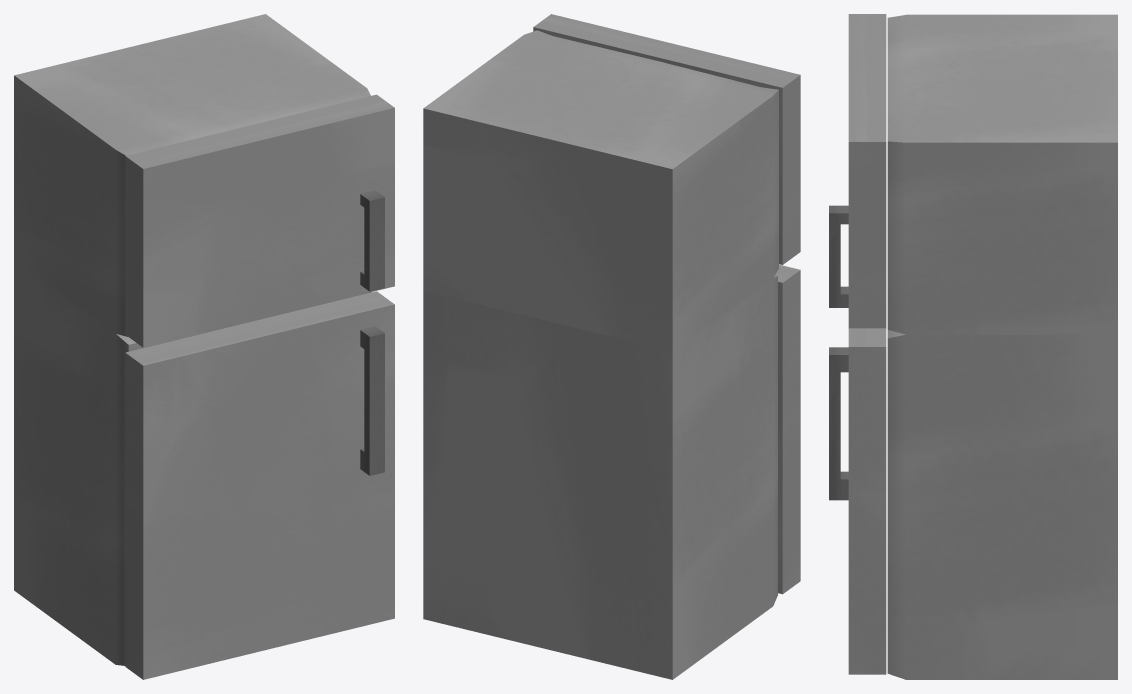
File: FBX_Model_MABacklog_Fridge.fbx
3 renders of one model, left to right at view 1: azimuth 30°, elevation 25°; view 2: azimuth 150°, elevation 25°; view 3: azimuth 270°, elevation 25°, orthographic. The views are drawn at different scales.
Visible parts, largest first — view 1: fridge_MainBody_Door, fridge_Freezer_Door, fridge_Freezer, fridge_MainBody, fridge_MainBody_Handle, fridge_Freezer_Handle; view 2: fridge_MainBody, fridge_Freezer, fridge_Freezer_Door, fridge_MainBody_Door; view 3: fridge_MainBody, fridge_Freezer, fridge_MainBody_Door, fridge_Freezer_Door, fridge_MainBody_Handle, fridge_Freezer_Handle.
Boxes of the visible parts, box(x1,y1,x2,y2) form: fridge_MainBody_Door: box(125, 291, 394, 679); fridge_Freezer_Door: box(125, 94, 394, 347); fridge_Freezer: box(14, 14, 370, 336); fridge_MainBody: box(14, 259, 371, 665); fridge_MainBody_Handle: box(360, 326, 384, 475); fridge_Freezer_Handle: box(360, 190, 384, 291); fridge_MainBody: box(423, 275, 777, 679); fridge_Freezer: box(423, 30, 778, 351); fridge_Freezer_Door: box(533, 14, 800, 264); fridge_MainBody_Door: box(775, 264, 800, 594); fridge_MainBody: box(887, 330, 1117, 679); fridge_Freezer: box(887, 14, 1117, 334); fridge_MainBody_Door: box(848, 328, 886, 674); fridge_Freezer_Door: box(848, 14, 886, 328); fridge_MainBody_Handle: box(829, 347, 848, 500); fridge_Freezer_Handle: box(829, 205, 848, 307).
Bounding box in the file's own units: 1.43 × 2.8 × 1.37.
Materials: 1 (1 with a texture image).
